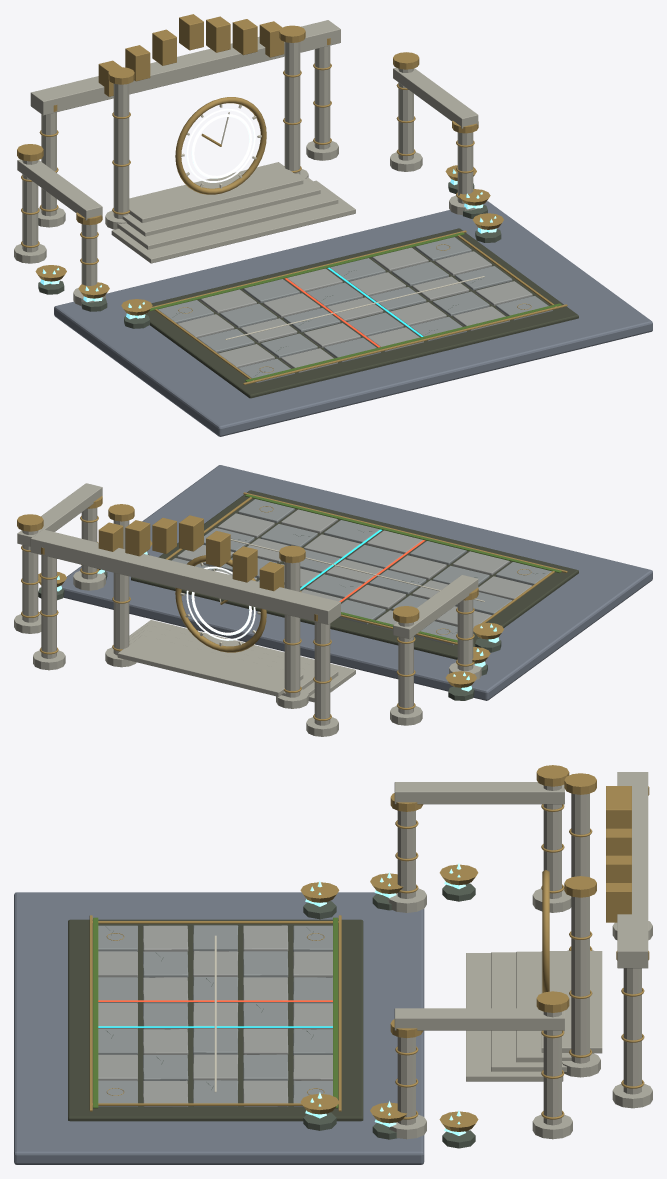
File: eternity_temple.glb
The picture shows the model from 3 angles, top to bottom: view 1: azimuth 30°, elevation 25°; view 2: azimuth 150°, elevation 25°; view 3: azimuth 270°, elevation 25°; orthographic projection. The views are drawn at different scales.
Parts seen in each view (by area): view 1: Architecture, BattleMeadow, ArenaTiles, ArenaBase, ArenaBorders, Energy, Props, ArenaLaneLines; view 2: Architecture, BattleMeadow, ArenaTiles, ArenaBase, ArenaBorders, Energy, Props, ArenaLaneLines; view 3: Architecture, BattleMeadow, ArenaTiles, ArenaBase, ArenaBorders, Props, Energy, ArenaLaneLines.
Part boxes in pixels (x1=…): Architecture: x1=14, y1=14, x2=478, y2=305; BattleMeadow: x1=54, y1=201, x2=652, y2=436; ArenaTiles: x1=158, y1=237, x2=552, y2=383; ArenaBase: x1=145, y1=228, x2=578, y2=398; ArenaBorders: x1=149, y1=230, x2=567, y2=384; Energy: x1=38, y1=114, x2=501, y2=328; Props: x1=35, y1=165, x2=503, y2=315; ArenaLaneLines: x1=225, y1=267, x2=484, y2=347; Architecture: x1=14, y1=483, x2=481, y2=736; BattleMeadow: x1=61, y1=465, x2=652, y2=700; ArenaTiles: x1=171, y1=499, x2=551, y2=645; ArenaBase: x1=131, y1=490, x2=578, y2=659; ArenaBorders: x1=165, y1=492, x2=567, y2=644; Energy: x1=38, y1=551, x2=501, y2=700; Props: x1=38, y1=540, x2=503, y2=687; ArenaLaneLines: x1=230, y1=529, x2=484, y2=601; Architecture: x1=386, y1=765, x2=652, y2=1139; BattleMeadow: x1=14, y1=892, x2=424, y2=1164; ArenaTiles: x1=98, y1=925, x2=332, y2=1107; ArenaBase: x1=68, y1=919, x2=363, y2=1121; ArenaBorders: x1=89, y1=915, x2=341, y2=1111; Props: x1=300, y1=864, x2=478, y2=1131; Energy: x1=303, y1=863, x2=475, y2=1148; ArenaLaneLines: x1=98, y1=935, x2=332, y2=1092.
Size of what is drawn, in the model's own units: 17.92 by 7.29 by 18.38.
